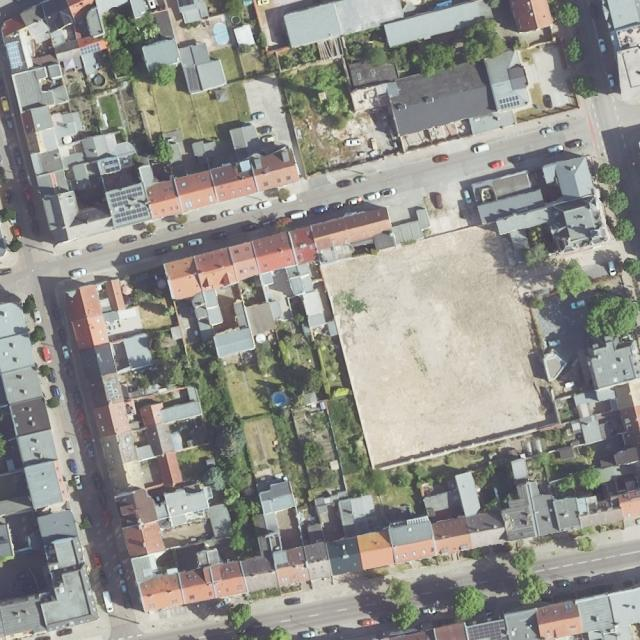PV: (467, 621, 508, 640), (109, 186, 143, 208), (113, 203, 148, 224), (6, 41, 28, 74), (498, 95, 520, 110), (80, 43, 101, 56), (103, 158, 121, 173)
